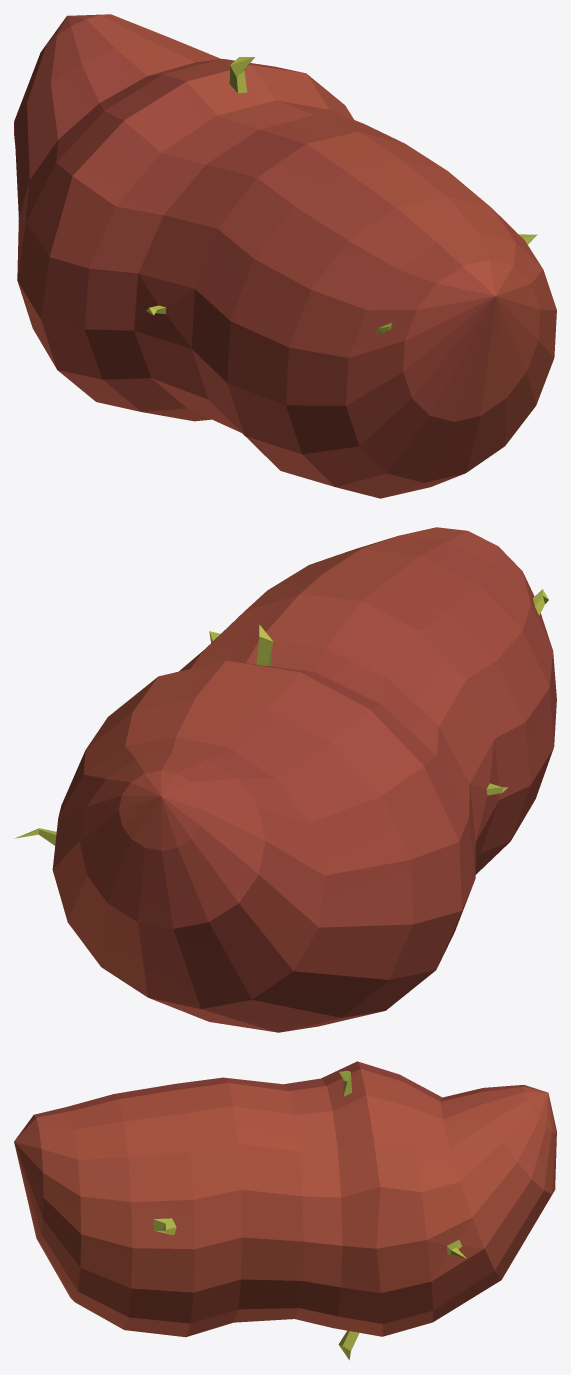
The model's file is Batata.fbx.
The picture shows the model from 3 angles, top to bottom: view 1: azimuth 30°, elevation 25°; view 2: azimuth 150°, elevation 25°; view 3: azimuth 270°, elevation 25°; orthographic projection. The views are drawn at different scales.
Parts seen in each view (by area): view 1: Potato; view 2: Potato; view 3: Potato.
Part boxes in pixels (left/top/right/bottom): Potato: left=14, top=14, right=556, bottom=498; Potato: left=14, top=527, right=556, bottom=1032; Potato: left=14, top=1061, right=556, bottom=1360.
Bounding box in the file's own units: 32.25 × 31.16 × 55.31.
